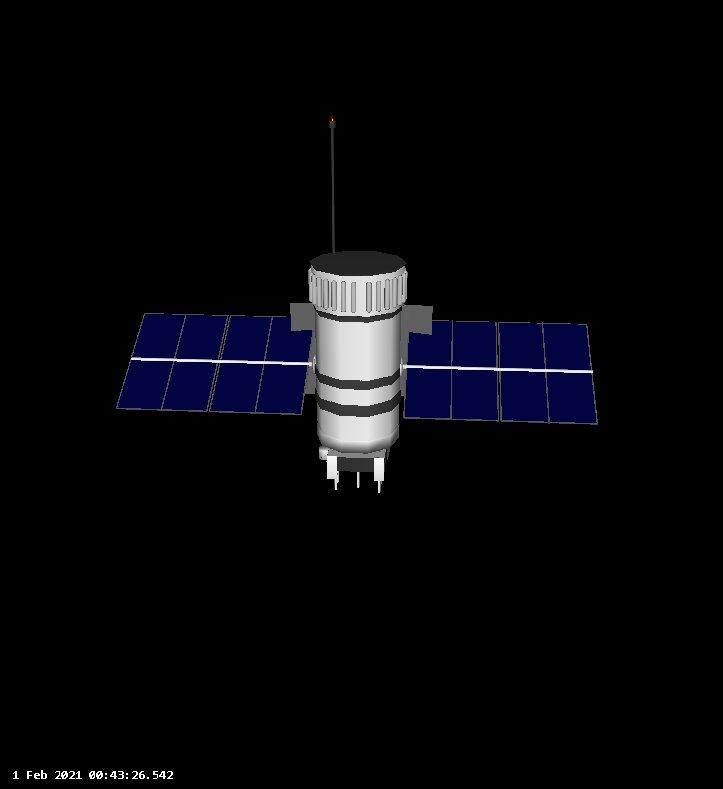antenna: (326, 115, 339, 252)
body: (306, 249, 410, 495)
solar: (113, 310, 316, 417), (401, 320, 600, 427)
